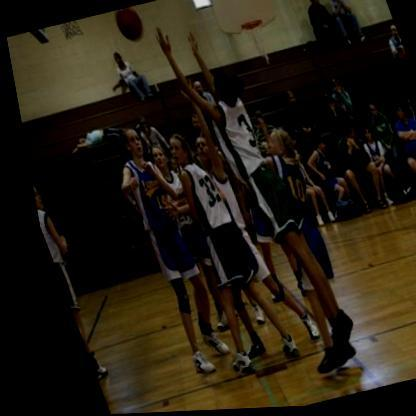basketball: (107, 5, 151, 46)
